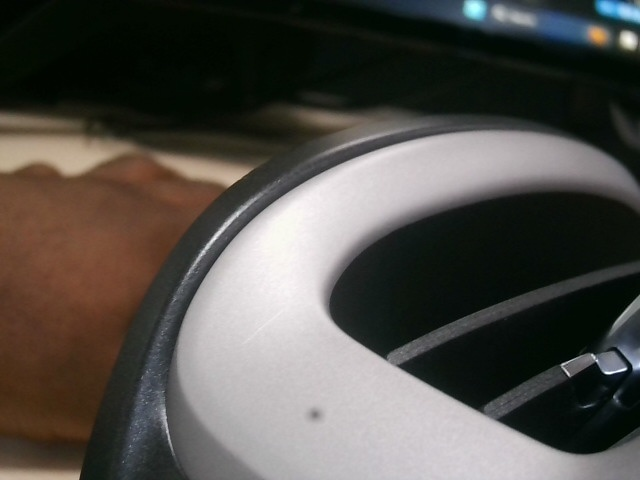NG: (238, 301, 291, 350)
